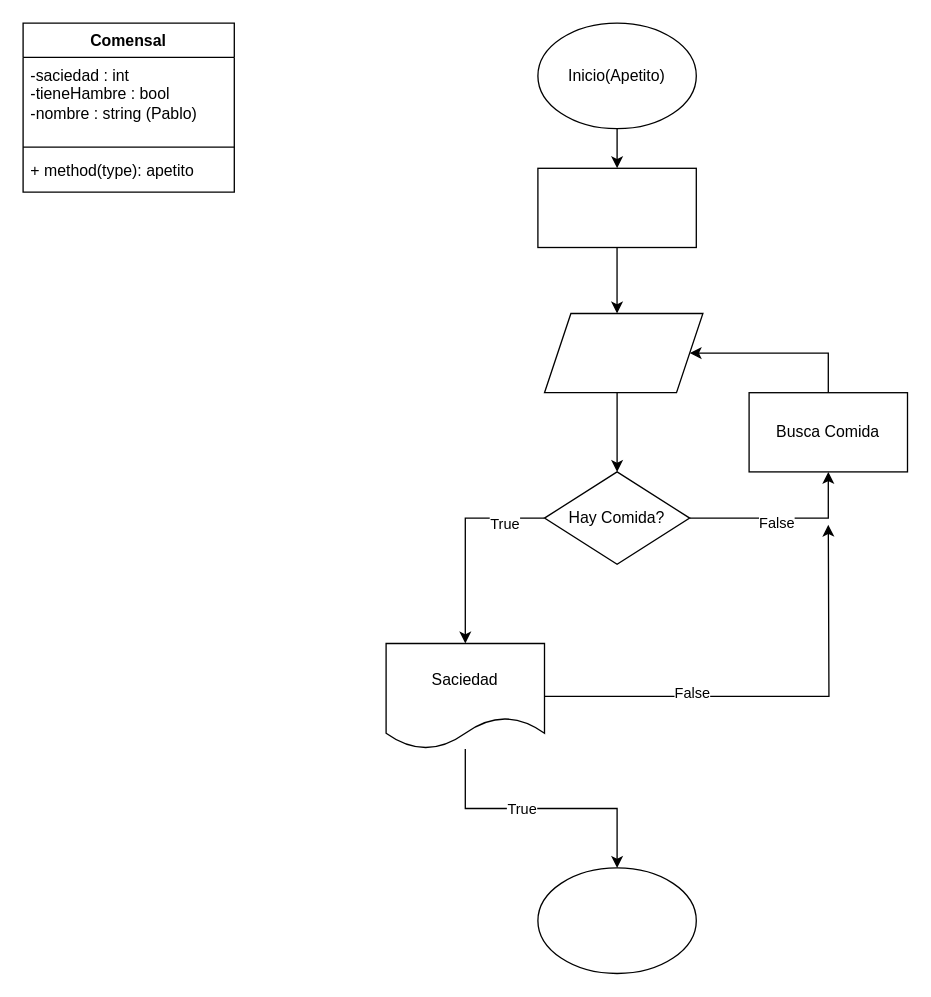
The diagram is 931 pixels wide and 997 high, and some of its shapes have lost their labels. Each missing label, with the centre of its shape:
"Alimentarse" belongs at pixel 616 207.
"Comida" belongs at pixel 623 352.
"Fin" belongs at pixel 616 920.
